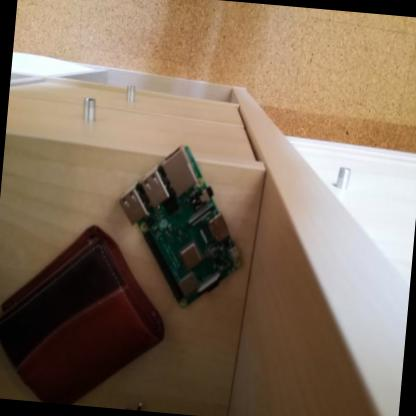Raspberry_Pi_3: (111, 139, 255, 316)
